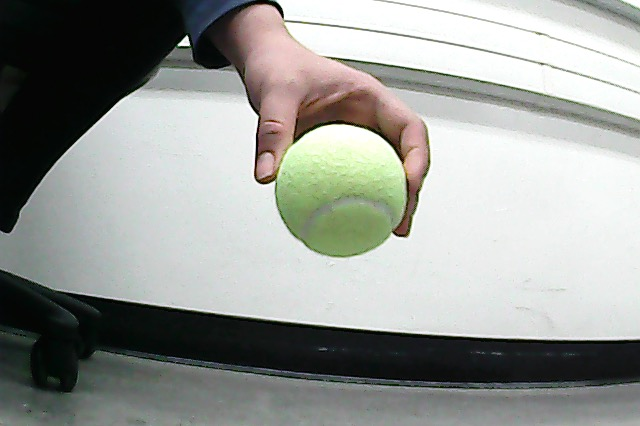ball: (273, 120, 410, 262)
